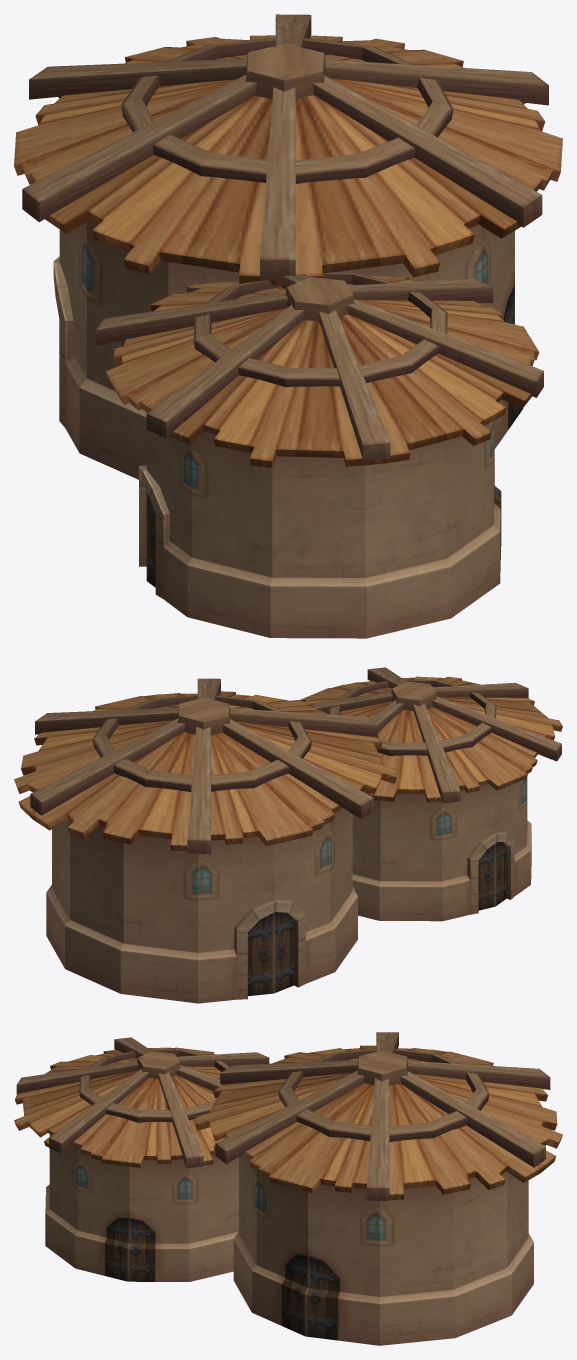
File: Area_08_3.fbx
The picture shows the model from 3 angles, top to bottom: view 1: azimuth 30°, elevation 25°; view 2: azimuth 150°, elevation 25°; view 3: azimuth 270°, elevation 25°; orthographic projection. The views are drawn at different scales.
Visible parts, largest first — view 1: Area_08_3; view 2: Area_08_3; view 3: Area_08_3.
Boxes of the visible parts, bbox=[...] form: Area_08_3: bbox=[14, 14, 562, 638]; Area_08_3: bbox=[14, 667, 562, 1003]; Area_08_3: bbox=[14, 1032, 562, 1345].
Bounding box in the file's own units: 1449 × 813 × 1843.
